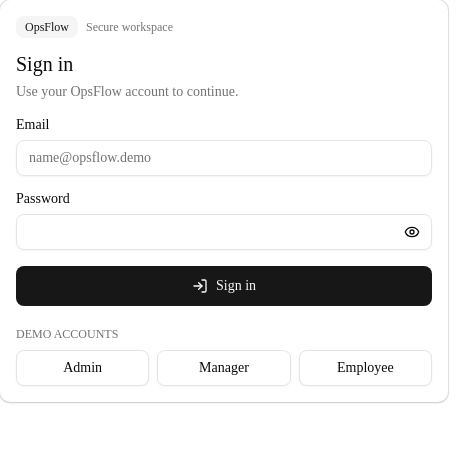
Test case: login form › shows accessible validation errors
The image size is (466, 476).
Click the button "Sign in" at [224, 286], box [16,266,432,306]
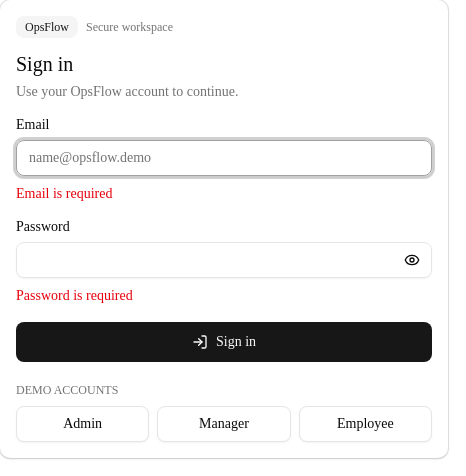
Expected: the text "Email is required" is shown, [16,186,112,201]
Expected: the text "Password is required" is shown, [16,288,133,303]
